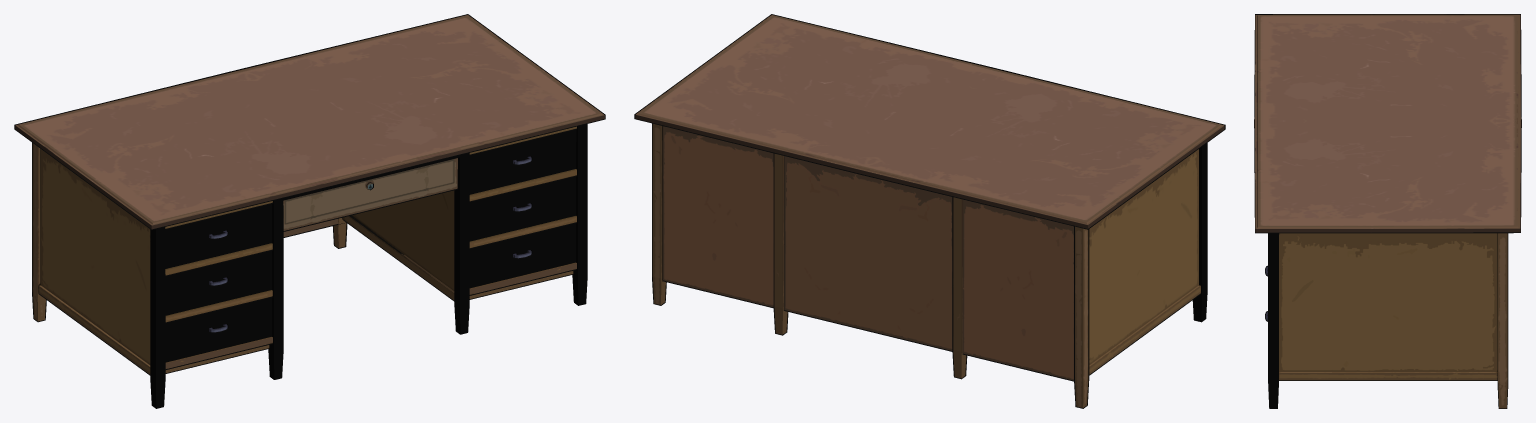
Rendered from Teachers Desk.fbx.
3 renders of one model, left to right at view 1: azimuth 30°, elevation 25°; view 2: azimuth 150°, elevation 25°; view 3: azimuth 270°, elevation 25°, orthographic. The views are drawn at different scales.
Parts seen in each view (by area): view 1: Teachers Desk; view 2: Teachers Desk; view 3: Teachers Desk.
Part boxes in pixels (x1,y1,x2,y2): Teachers Desk: [14, 14, 605, 408]; Teachers Desk: [634, 14, 1225, 408]; Teachers Desk: [1254, 14, 1521, 408].
Bounding box in the file's own units: 276 × 112 × 146.
